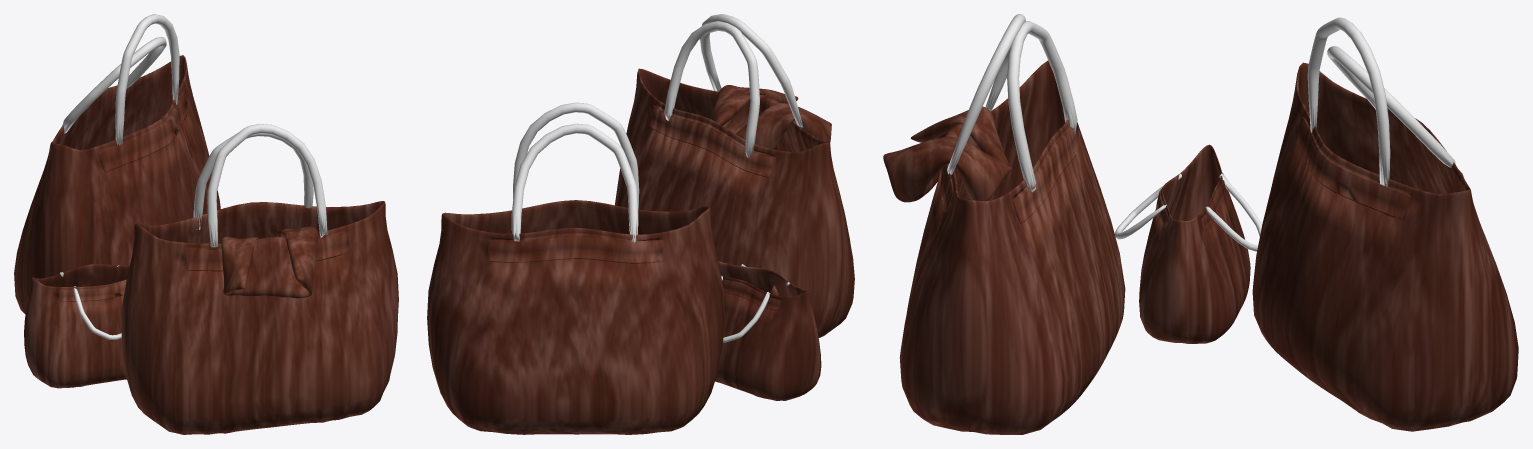
File: torba.fbx
3 views of the same model, side by side, from view 1: azimuth 30°, elevation 25°; view 2: azimuth 150°, elevation 25°; view 3: azimuth 270°, elevation 25° (orthographic). The views are drawn at different scales.
Visible parts, largest first — view 1: Box002, Box001, Box003, Plane001, Line004, Line001, Line002, Line003, Line005; view 2: Box001, Box002, Box003, Plane001, Line002, Line003, Line001, Line004; view 3: Box001, Box002, Box003, Plane001, Line003, Line001, Line004, Line002, Line006, Line005.
Part boxes in pixels (x1=…): Box002: x1=121, y1=201, x2=398, y2=434; Box001: x1=14, y1=55, x2=220, y2=314; Box003: x1=24, y1=264, x2=129, y2=388; Plane001: x1=221, y1=226, x2=318, y2=298; Line004: x1=207, y1=124, x2=327, y2=247; Line001: x1=115, y1=14, x2=179, y2=145; Line002: x1=62, y1=36, x2=166, y2=133; Line003: x1=193, y1=132, x2=313, y2=229; Line005: x1=73, y1=286, x2=121, y2=339; Box001: x1=427, y1=200, x2=724, y2=434; Box002: x1=615, y1=68, x2=854, y2=337; Box003: x1=715, y1=261, x2=821, y2=400; Plane001: x1=711, y1=85, x2=831, y2=149; Line002: x1=511, y1=123, x2=638, y2=242; Line003: x1=664, y1=21, x2=759, y2=157; Line001: x1=513, y1=102, x2=639, y2=209; Line004: x1=700, y1=14, x2=803, y2=127; Box001: x1=1252, y1=62, x2=1518, y2=431; Box002: x1=899, y1=60, x2=1125, y2=434; Box003: x1=1139, y1=144, x2=1250, y2=343; Plane001: x1=883, y1=106, x2=1011, y2=202; Line003: x1=1007, y1=21, x2=1077, y2=192; Line001: x1=1307, y1=17, x2=1390, y2=186; Line004: x1=947, y1=14, x2=1025, y2=174; Line002: x1=1327, y1=46, x2=1455, y2=167; Line006: x1=1205, y1=173, x2=1262, y2=251; Line005: x1=1115, y1=173, x2=1181, y2=239.
Bounding box in the file's own units: 370 × 371 × 576.
1 material, 1 textured.
